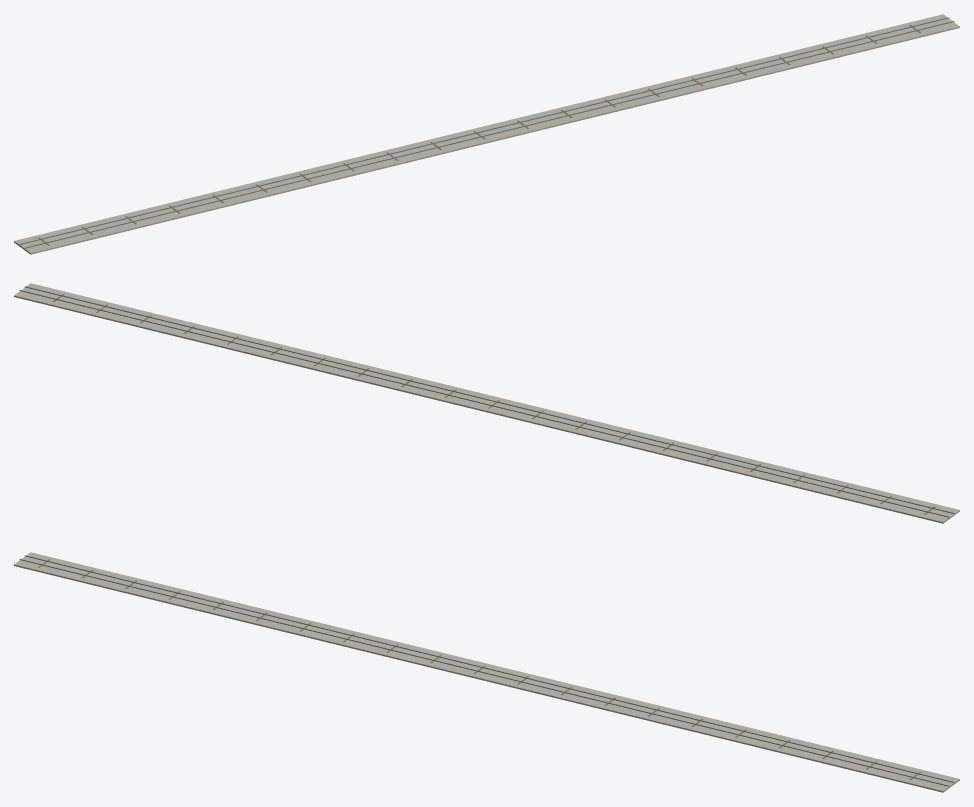
File: valley-1-2.glb
3 renders of one model, top to bottom at view 1: azimuth 30°, elevation 25°; view 2: azimuth 150°, elevation 25°; view 3: azimuth 330°, elevation 25°, orthographic.
Parts seen in each view (by area): view 1: valley-1-2; view 2: valley-1-2; view 3: valley-1-2.
Part boxes in pixels (bbox=[...]): valley-1-2: bbox=[14, 14, 959, 254]; valley-1-2: bbox=[14, 283, 959, 523]; valley-1-2: bbox=[14, 552, 959, 792].
Bounding box in the file's own units: 256 × 0.7 × 8.
